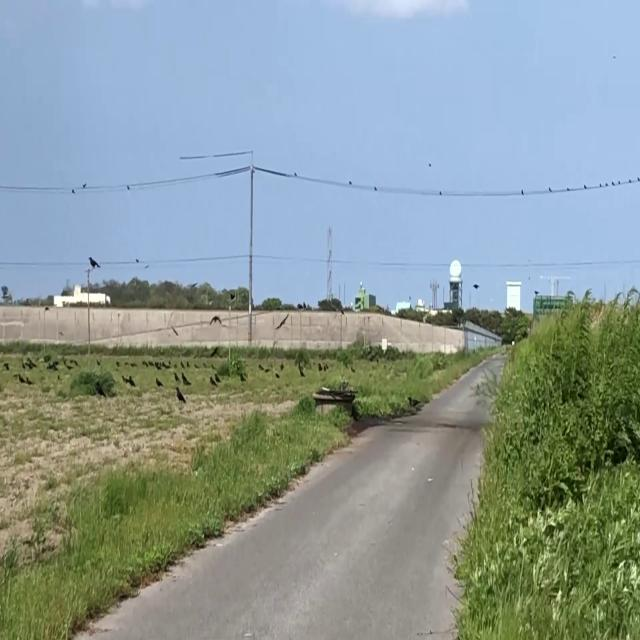bird: (210, 314, 222, 332), (176, 382, 184, 407), (89, 252, 98, 274), (156, 373, 161, 391), (128, 372, 133, 390), (210, 374, 215, 391), (318, 360, 322, 374)
